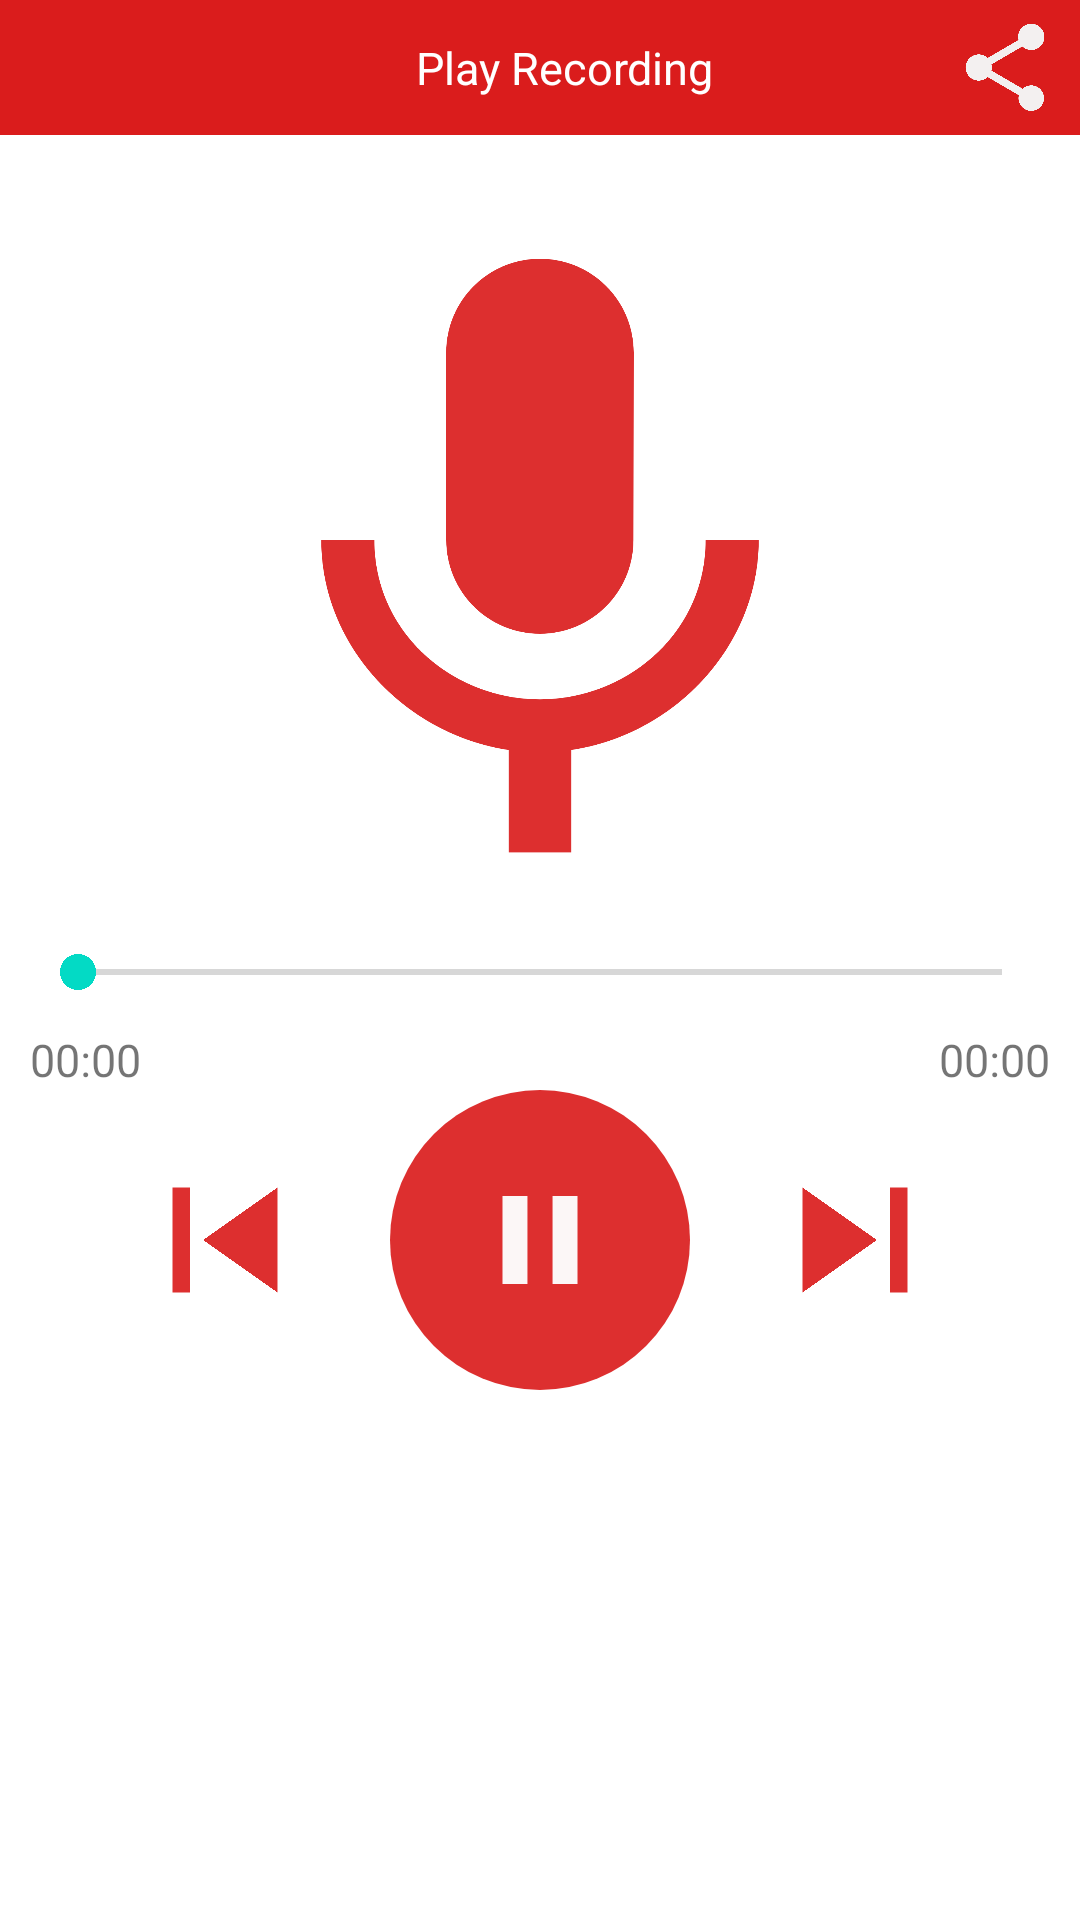

Named icons in this screenshot (1080px×1920px) and their bounding boxes, bbox(x1, y1, x2, y2):
pause: bbox(502, 1196, 578, 1284)
share: bbox(966, 24, 1044, 111)
skip next: bbox(802, 1187, 908, 1293)
skip previous: bbox(172, 1187, 278, 1293)
